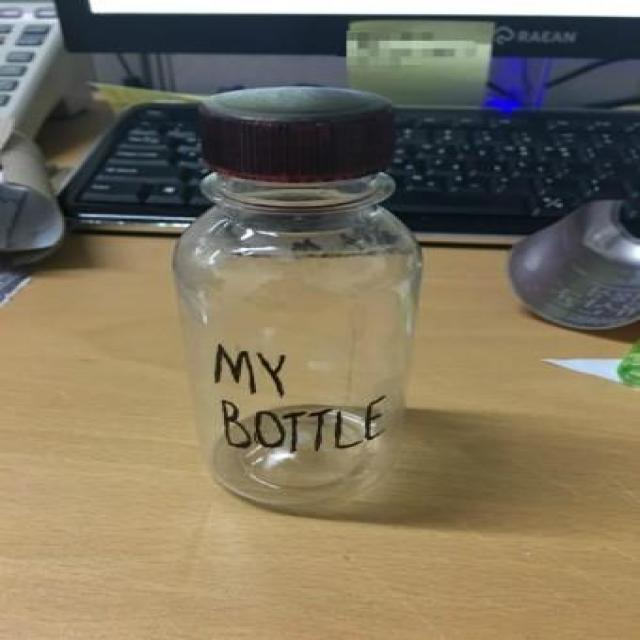bottle: (138, 0, 430, 606)
